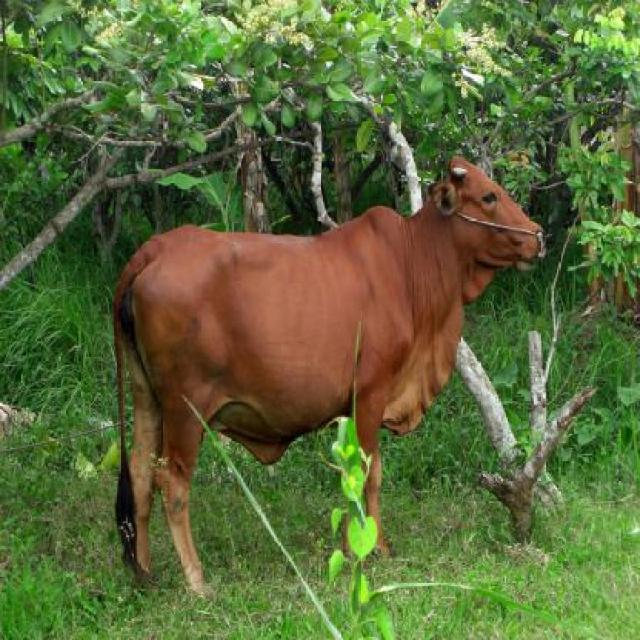Cow: (112, 156, 550, 606)
